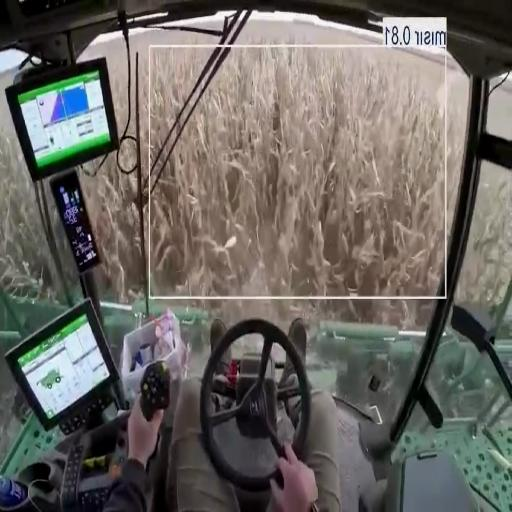misir: (144, 48, 445, 295), (133, 33, 213, 182), (82, 154, 142, 297)
